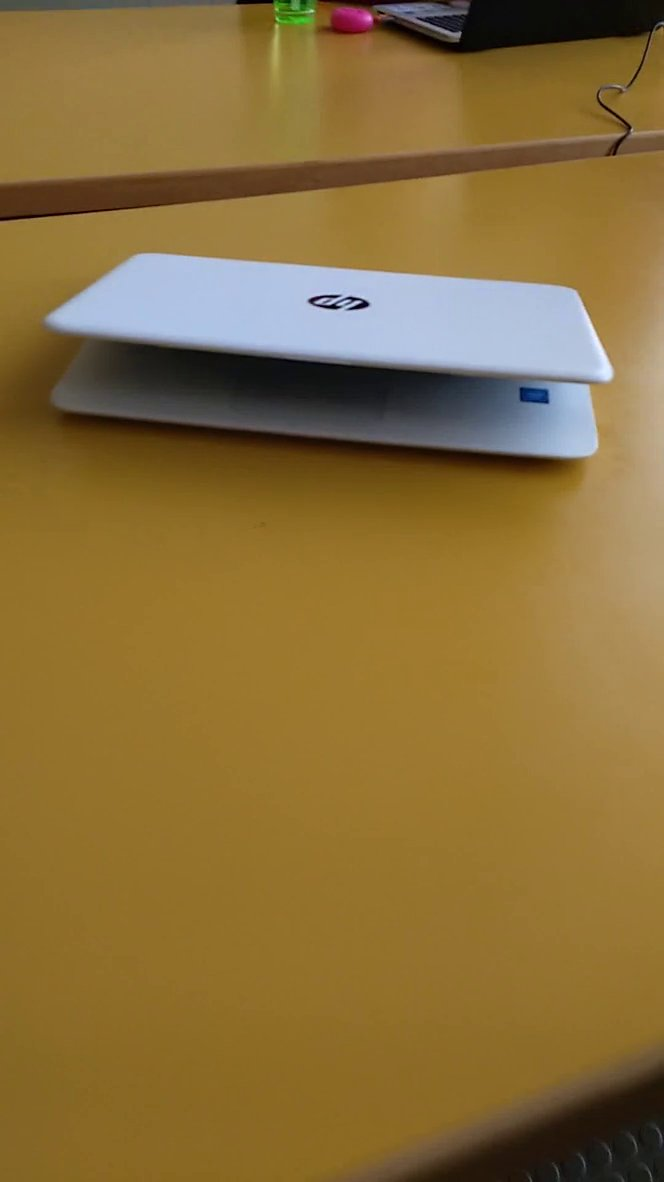laptop: (19, 219, 655, 514)
